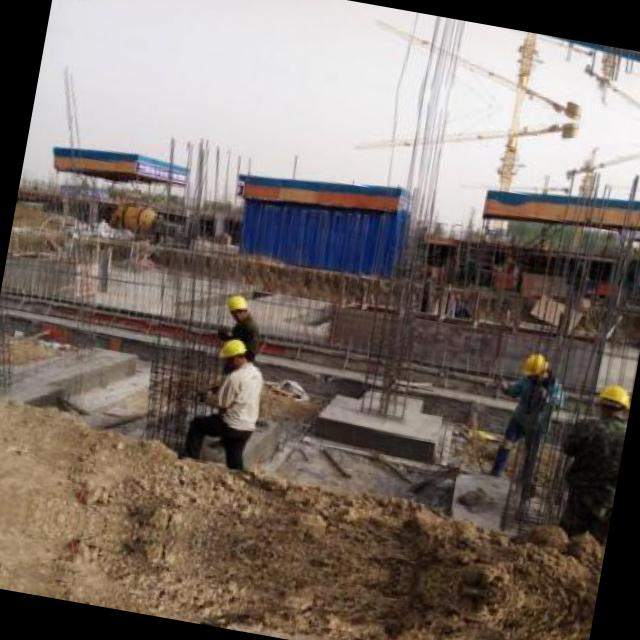helmet: (588, 376, 630, 425), (208, 334, 252, 374), (516, 348, 558, 386), (223, 290, 256, 322)
